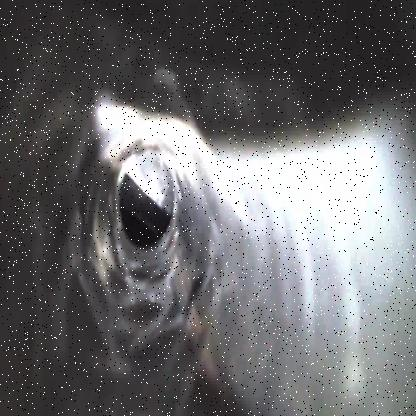Crack: (73, 105, 221, 339)
